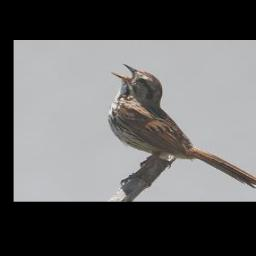Sparrow: (109, 62, 256, 190)
